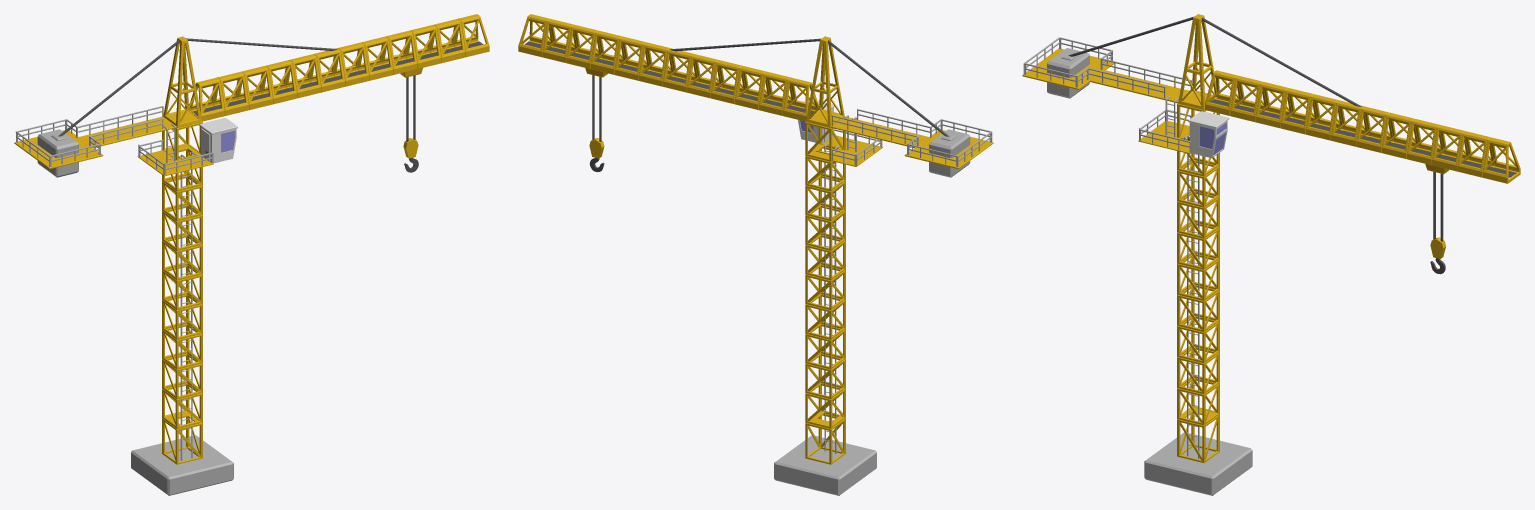
The model's file is Crane.fbx.
3 renders of one model, left to right at view 1: azimuth 30°, elevation 25°; view 2: azimuth 150°, elevation 25°; view 3: azimuth 330°, elevation 25°, orthographic. The views are drawn at different scales.
Visible parts, largest first — view 1: Crane; view 2: Crane; view 3: Crane.
Boxes of the visible parts, x1=… form: Crane: x1=14, y1=14, x2=489, y2=495; Crane: x1=518, y1=14, x2=993, y2=495; Crane: x1=1022, y1=14, x2=1520, y2=495.
Size of the model in its own units: 3981 by 3674 by 592.
